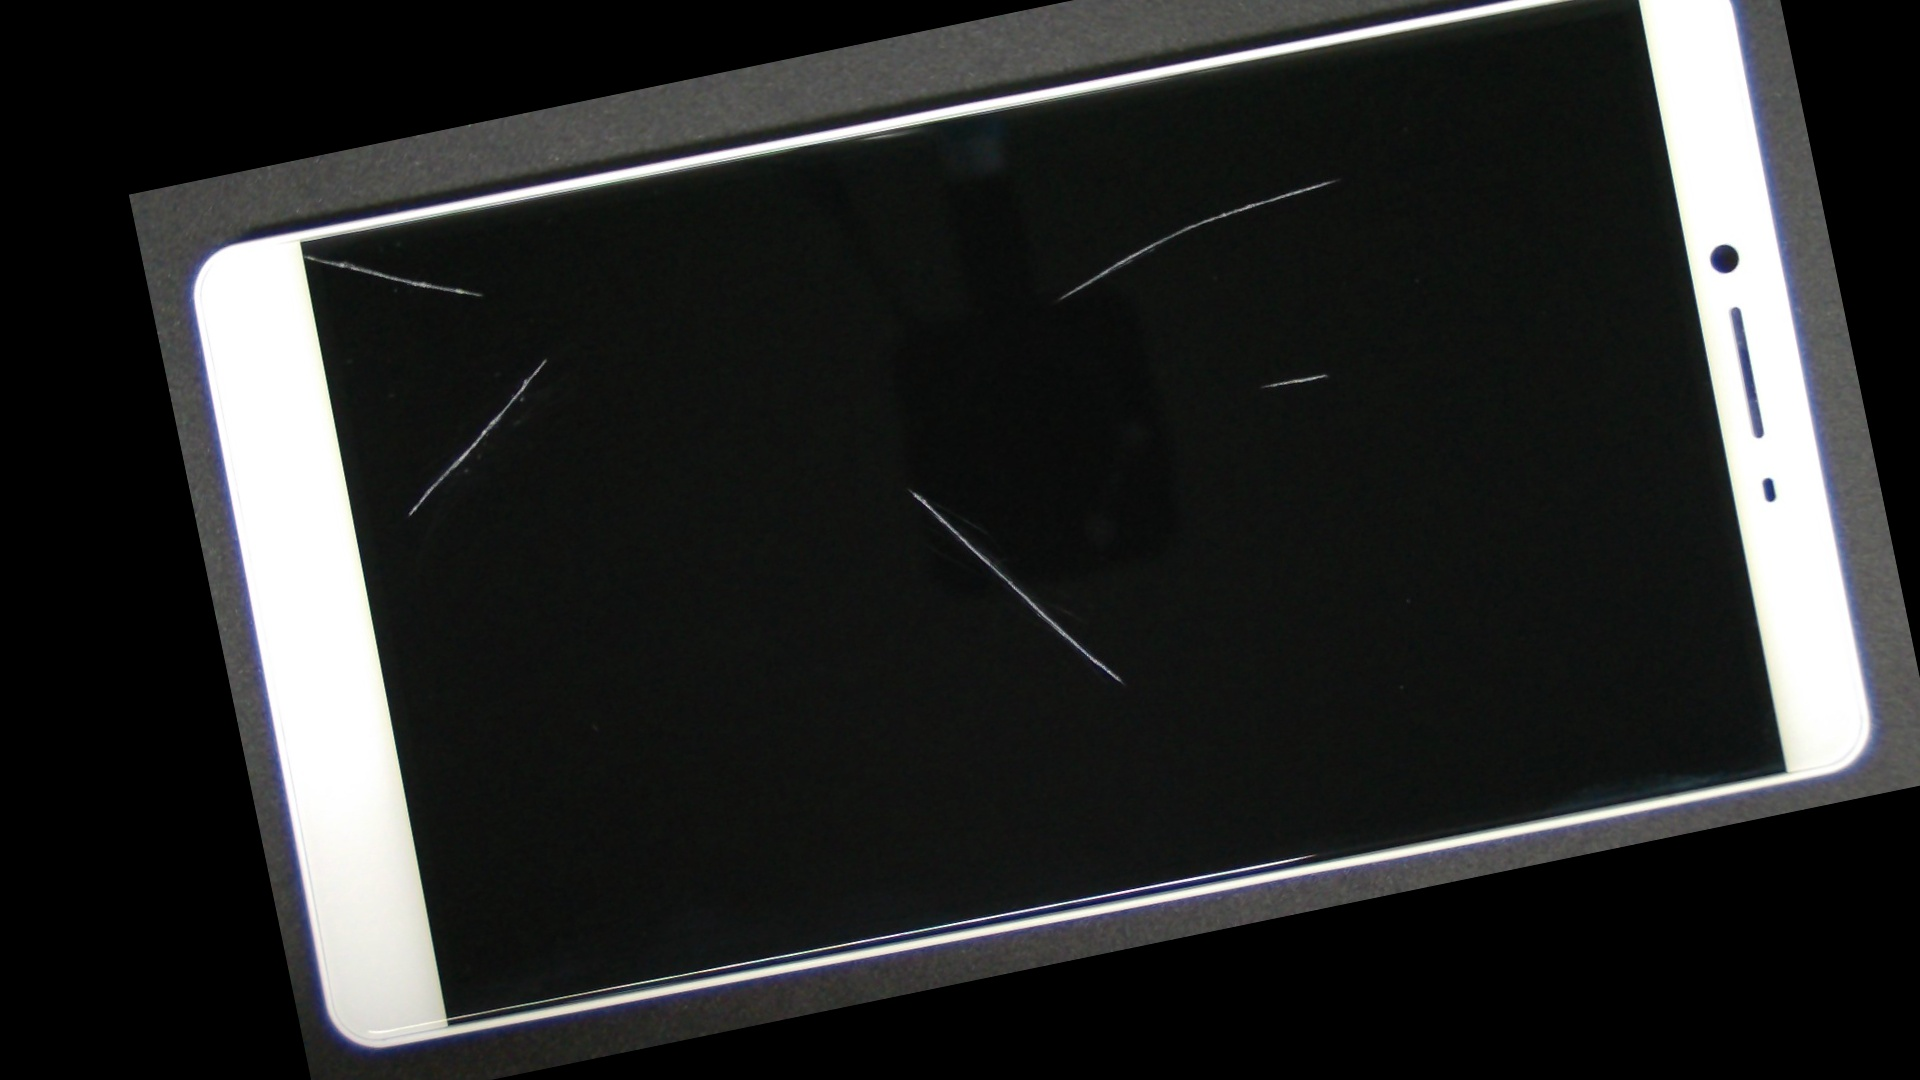oil: (713, 63, 1876, 692), (518, 199, 1296, 778), (727, 0, 1821, 411), (338, 200, 754, 516), (216, 193, 390, 318)
